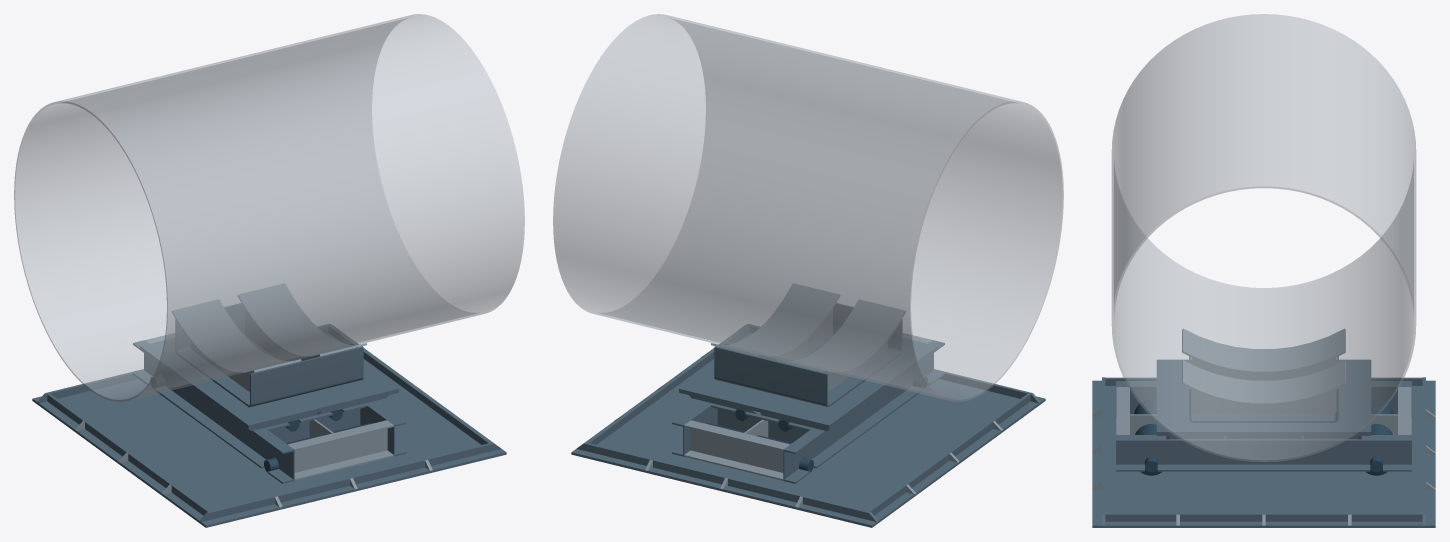
File: TS-628.00.000-28-opora-dn1420-hod200.glb
The picture shows the model from 3 angles, left to right: view 1: azimuth 30°, elevation 25°; view 2: azimuth 150°, elevation 25°; view 3: azimuth 270°, elevation 25°; orthographic projection.
Visible parts, largest first — view 1: truba, plita_niz_osnovanie_0, plita_verh_osnovanie_79, korpus_skoba_90, karetka_shveller_prodolnyj_17, korpus_podushka_96, korpus_podushka_95, karetka_rebro_shveller_19, plita_niz_polosa2_9, plita_niz_polosa3_10, plita_niz_polosa3_2, karetka_shveller_poperechnyj_18 (+3 smaller); view 2: truba, plita_niz_osnovanie_0, plita_verh_osnovanie_79, korpus_skoba_90, karetka_shveller_prodolnyj_17, korpus_podushka_96, korpus_podushka_95, karetka_rebro_shveller_22, plita_niz_polosa2_1, plita_niz_polosa3_10, plita_niz_polosa3_2, karetka_shveller_poperechnyj_21 (+3 smaller); view 3: truba, plita_niz_osnovanie_0, karetka_shveller_prodolnyj_20, plita_verh_osnovanie_79, korpus_podushka_96, korpus_podushka_95, plita_niz_polosa3_2, korpus_rebro3_94, korpus_skoba_90, karetka_shveller_prodolnyj_17, korpus_rebro3_92, karetka_rebro_shveller_19 (+5 smaller).
Part boxes in pixels (x1,y1,x2,y2): truba: [14, 14, 524, 401]; plita_niz_osnovanie_0: [32, 330, 506, 527]; plita_verh_osnovanie_79: [140, 338, 398, 429]; korpus_skoba_90: [175, 303, 363, 407]; karetka_shveller_prodolnyj_17: [133, 340, 294, 483]; korpus_podushka_96: [238, 283, 366, 358]; korpus_podushka_95: [172, 299, 301, 374]; karetka_rebro_shveller_19: [288, 420, 393, 480]; plita_niz_polosa2_9: [199, 442, 501, 521]; plita_niz_polosa3_10: [47, 393, 209, 515]; plita_niz_polosa3_2: [328, 325, 491, 444]; karetka_shveller_poperechnyj_18: [265, 403, 366, 443]; truba: [553, 14, 1063, 401]; plita_niz_osnovanie_0: [571, 330, 1045, 527]; plita_verh_osnovanie_79: [679, 338, 937, 429]; korpus_skoba_90: [714, 303, 902, 407]; karetka_shveller_prodolnyj_17: [783, 340, 944, 483]; korpus_podushka_96: [711, 283, 839, 358]; korpus_podushka_95: [776, 299, 905, 374]; karetka_rebro_shveller_22: [684, 420, 789, 480]; plita_niz_polosa2_1: [576, 442, 878, 521]; plita_niz_polosa3_10: [868, 393, 1030, 515]; plita_niz_polosa3_2: [586, 325, 749, 444]; karetka_shveller_poperechnyj_21: [711, 403, 812, 443]; truba: [1111, 14, 1416, 462]; plita_niz_osnovanie_0: [1092, 380, 1435, 527]; karetka_shveller_prodolnyj_20: [1116, 435, 1411, 471]; plita_verh_osnovanie_79: [1156, 359, 1371, 435]; korpus_podushka_96: [1182, 360, 1345, 405]; korpus_podushka_95: [1182, 328, 1345, 373]; plita_niz_polosa3_2: [1105, 513, 1422, 521]; korpus_rebro3_94: [1191, 389, 1336, 414]; korpus_skoba_90: [1189, 356, 1338, 422]; karetka_shveller_prodolnyj_17: [1116, 381, 1411, 417]; korpus_rebro3_92: [1191, 357, 1336, 380]; karetka_rebro_shveller_19: [1116, 387, 1129, 434].
Bounding box in the file's own units: 1900 × 1828 × 1602.
